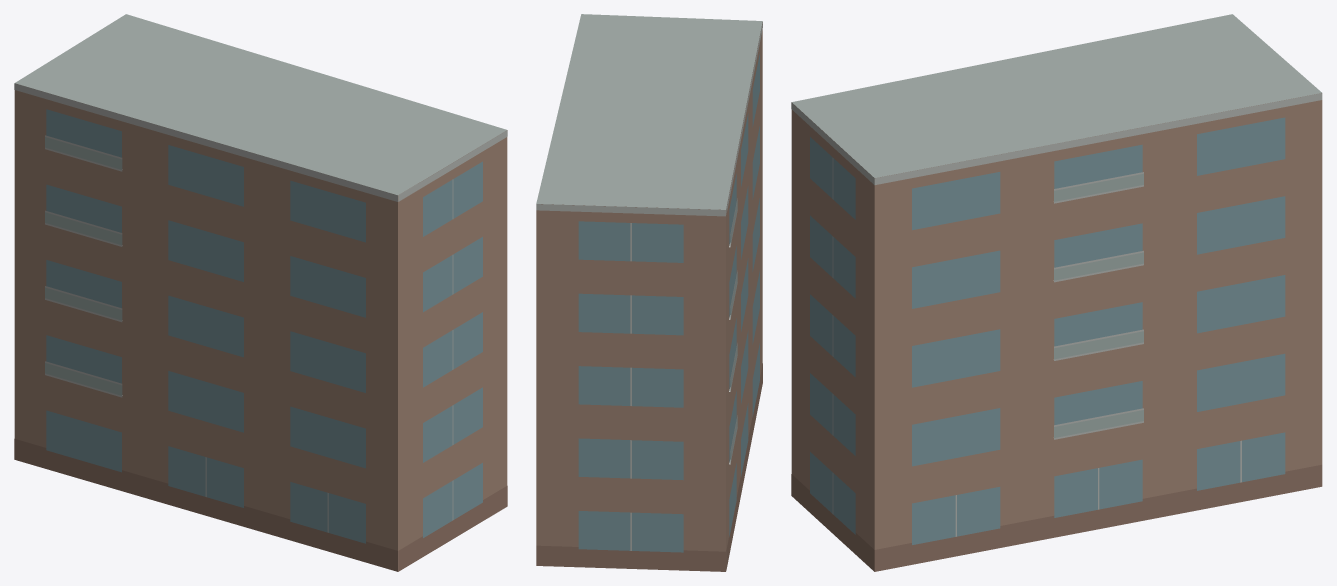
The model's file is survey-upis-33035007.glb.
3 views of the same model, side by side, from view 1: azimuth 30°, elevation 25°; view 2: azimuth 150°, elevation 25°; view 3: azimuth 270°, elevation 25° (orthographic). The views are drawn at different scales.
Parts seen in each view (by area): view 1: survey-upis-33035007.tmp; view 2: survey-upis-33035007.tmp; view 3: survey-upis-33035007.tmp.
Part boxes in pixels (bbox=[...]): survey-upis-33035007.tmp: bbox=[14, 14, 507, 571]; survey-upis-33035007.tmp: bbox=[536, 14, 762, 571]; survey-upis-33035007.tmp: bbox=[791, 14, 1322, 571].
Size of the model in its own units: 12.17 by 13.6 by 16.63.
